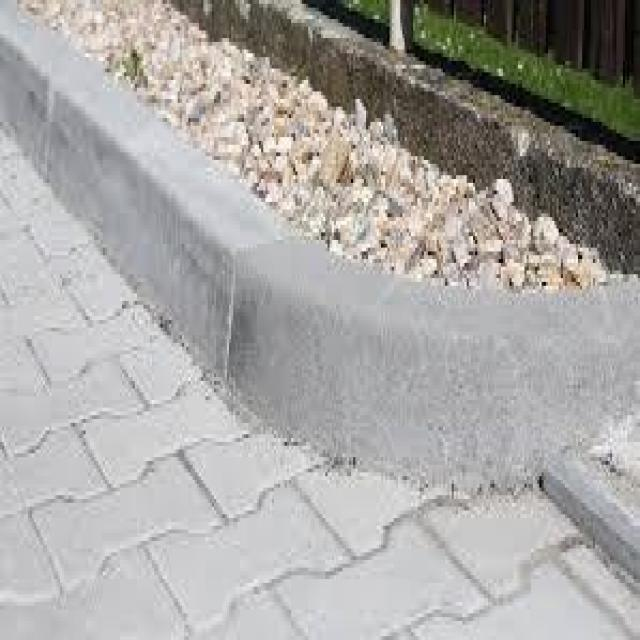curb: (223, 216, 526, 520), (1, 1, 221, 360)
